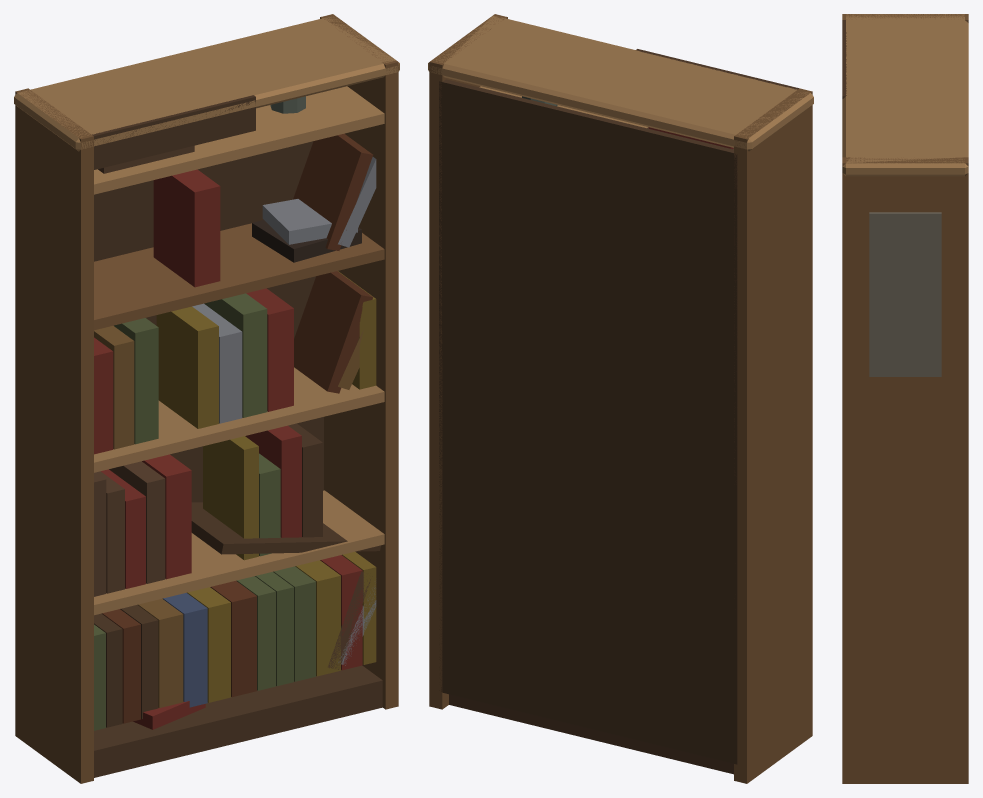
File: furn_bookcase.fbx
The picture shows the model from 3 angles, left to right: view 1: azimuth 30°, elevation 25°; view 2: azimuth 150°, elevation 25°; view 3: azimuth 270°, elevation 25°; orthographic projection. The views are drawn at different scales.
Parts seen in each view (by area): view 1: furn_bookcase; view 2: furn_bookcase; view 3: furn_bookcase.
Part boxes in pixels (x1,y1,x2,y2): furn_bookcase: (14,14,399,783); furn_bookcase: (428,14,813,783); furn_bookcase: (842,14,968,783).
Size of the model in its own units: 1 by 1.9 by 0.35.
